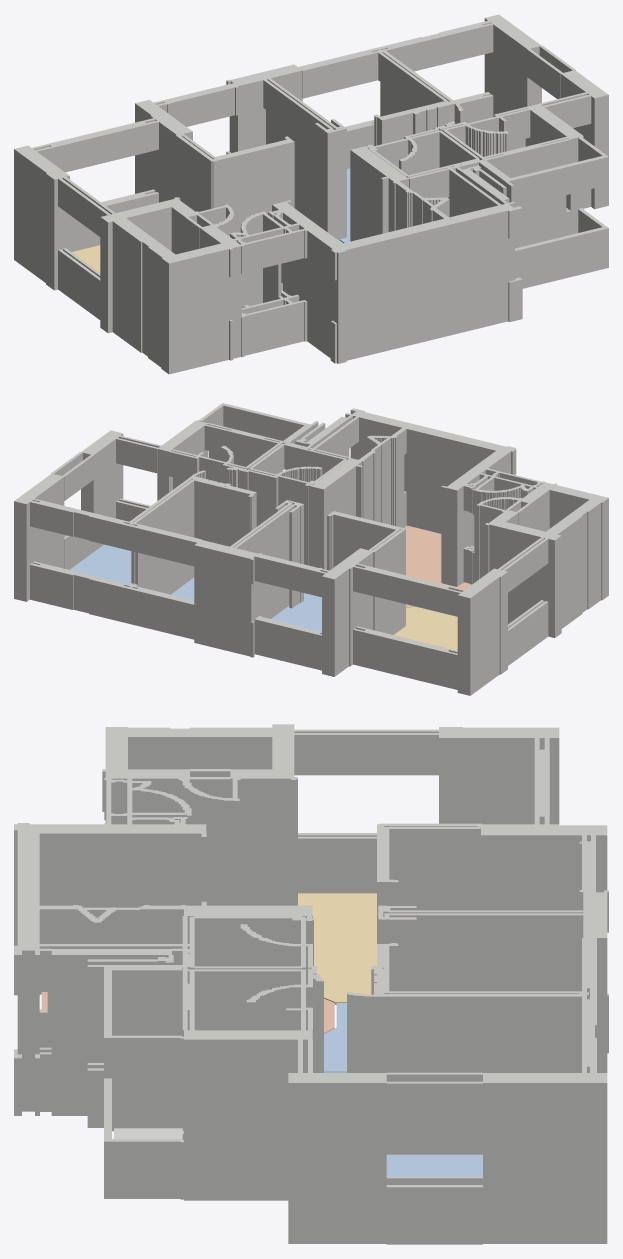
3 renders of one model, top to bottom at view 1: azimuth 30°, elevation 25°; view 2: azimuth 150°, elevation 25°; view 3: azimuth 270°, elevation 25°, orthographic. The views are drawn at different scales.
Visible parts, largest first — view 1: walls; view 2: walls, room:kitchen:7, room:living:3, room:bedroom:1, room:bedroom:0; view 3: walls, room:living:3, room:bedroom:1, room:bedroom:0, room:ledge:8.
Boxes of the visible parts, left/top/right/bottom form: walls: left=14, top=14, right=608, bottom=374; walls: left=14, top=403, right=608, bottom=695; room:kitchen:7: left=404, top=525, right=471, bottom=607; room:living:3: left=394, top=606, right=457, bottom=650; room:bedroom:1: left=70, top=544, right=131, bottom=584; room:bedroom:0: left=271, top=593, right=321, bottom=630; walls: left=14, top=724, right=608, bottom=1244; room:living:3: left=298, top=893, right=376, bottom=1004; room:bedroom:1: left=386, top=1154, right=482, bottom=1176; room:bedroom:0: left=324, top=1003, right=346, bottom=1072; room:ledge:8: left=114, top=1128, right=182, bottom=1139.
Bounding box in the file's own units: 13.4 × 2.8 × 9.38.
